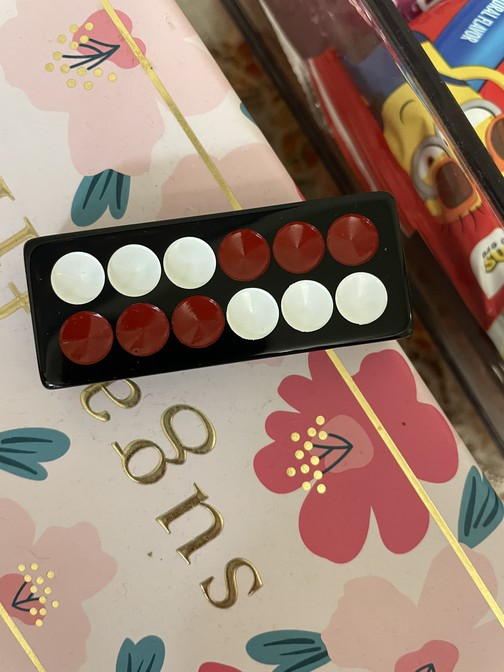heaven: (24, 192, 413, 389)
